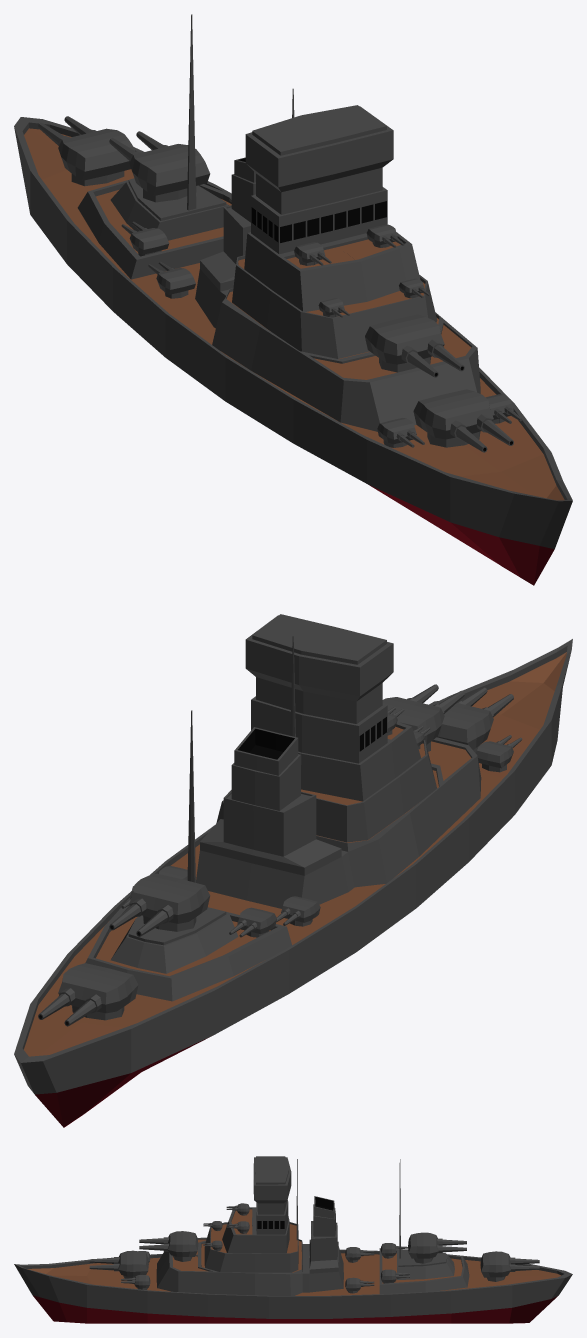
Rendered from battleship.fbx.
3 views of the same model, one above another, from view 1: azimuth 30°, elevation 25°; view 2: azimuth 150°, elevation 25°; view 3: azimuth 270°, elevation 25° (orthographic). The views are drawn at different scales.
Parts seen in each view (by area): view 1: Battleship, działko4, działko3, działko1, działko2, działko5, działko7, działko8, działko9, działko6; view 2: Battleship, działko1, działko2, działko4, działko3, działko8, działko9, działko5; view 3: Battleship, działko1, działko3, działko2, działko4, działko8, działko9, działko7, działko5, działko6.
Boxes of the visible parts, x1,y1,x2,y2 form: Battleship: (14,14,572,585); działko4: (413,389,513,452); działko3: (365,314,464,377); działko1: (109,131,210,202); działko2: (38,116,134,186); działko5: (377,394,522,447); działko7: (294,224,404,265); działko8: (148,261,195,298); działko9: (121,198,231,256); działko6: (318,278,430,317); Battleship: (14,614,572,1127); działko1: (109,873,210,936); działko2: (38,963,138,1026); działko4: (429,687,513,753); działko3: (382,684,464,751); działko8: (159,866,320,926); działko9: (121,885,276,937); działko5: (476,735,522,772); Battleship: (14,1156,572,1323); działko1: (408,1232,466,1263); działko3: (139,1231,198,1261); działko2: (480,1251,539,1281); działko4: (89,1250,148,1278); działko8: (345,1247,374,1293); działko9: (381,1243,409,1283); działko7: (226,1203,249,1233); działko5: (121,1251,150,1289); działko6: (203,1221,222,1250).
Size of the model in its own units: 500 by 100 by 162.
